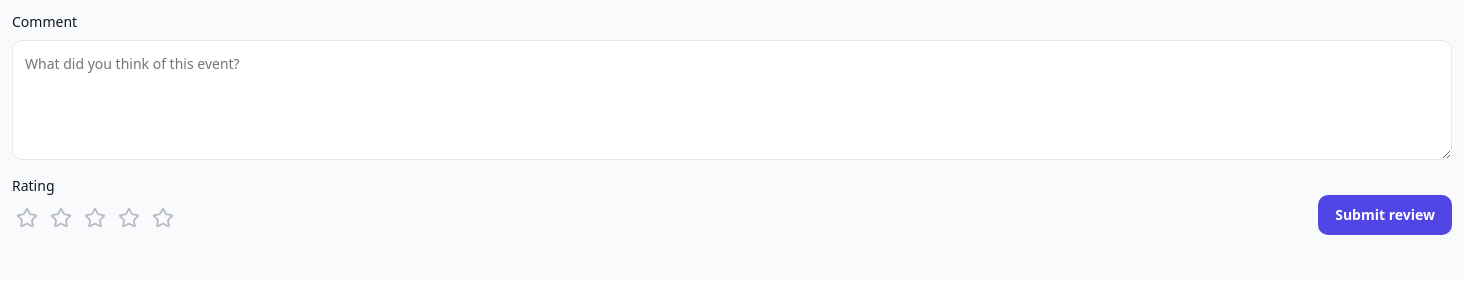
Test: EventReviewForm › should display validation error when rating is missing
The image size is (1464, 281).
Step 1. Type "Great event!" into the text box labelled "Comment" → (732, 100), box [12,40,1452,160]
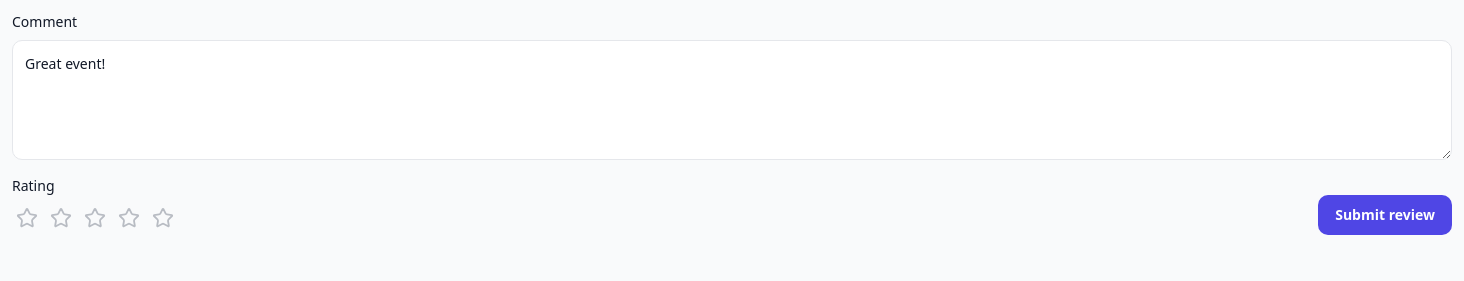
Step 2. Submit the form "Comment Rating Submit review"
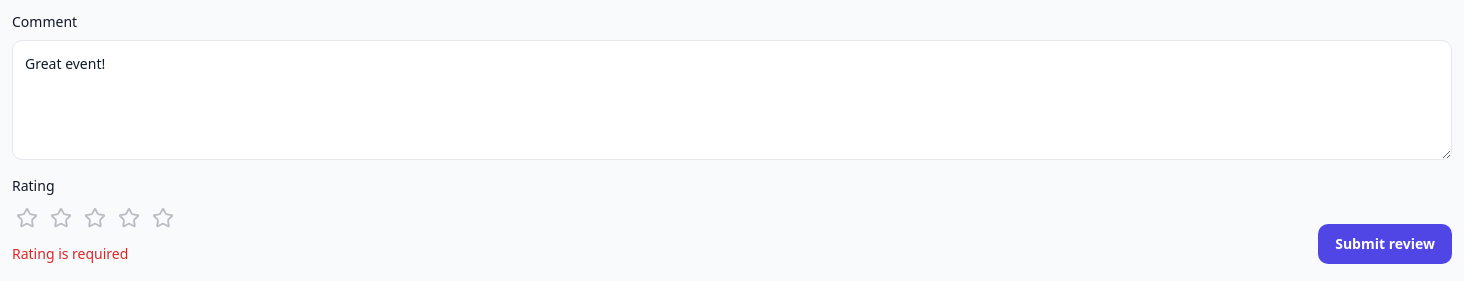
Now the text "Rating is required" is shown, box [12,244,128,263]
